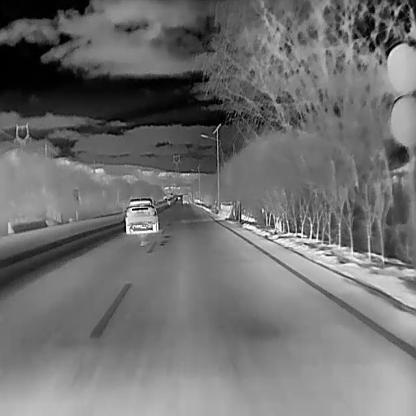car: (124, 197, 159, 235), (182, 194, 188, 206), (176, 195, 181, 200), (169, 192, 173, 197)
